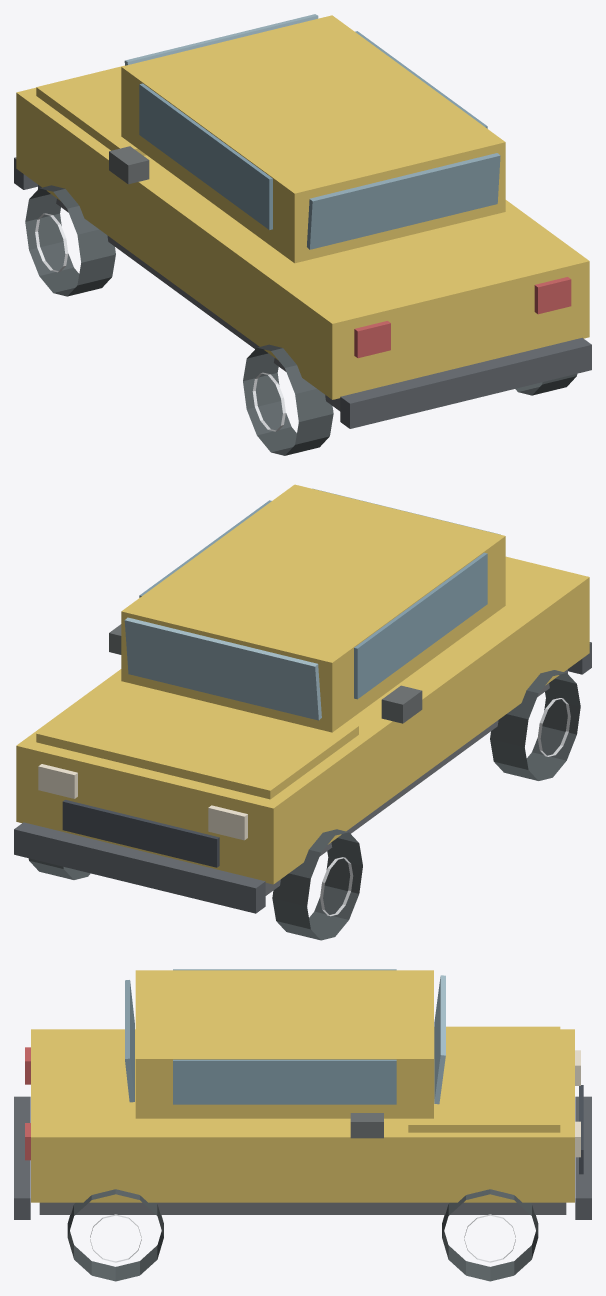
3 renders of one model, top to bottom at view 1: azimuth 30°, elevation 25°; view 2: azimuth 150°, elevation 25°; view 3: azimuth 270°, elevation 25°, orthographic. The views are drawn at different scales.
Visible parts, largest first — view 1: painted_body, cabin, tire (×3), rear_glass, rear_bumper, side_window, hood, taillight (×2), chassis, mirror, windshield; view 2: painted_body, cabin, hood, tire (×3), windshield, front_bumper, side_window, grille, headlight (×2), chassis, mirror; view 3: painted_body, cabin, hood, side_window (×2), chassis, tire (×2), rear_bumper, front_bumper, windshield, rear_glass, mirror.
Boxes of the visible parts, x1,y1,x2,y2 form: painted_body: (16, 87, 589, 399); cabin: (121, 15, 505, 263); tire (×3): (25, 185, 577, 455); rear_glass: (307, 153, 500, 249); rear_bumper: (340, 337, 591, 428); side_window: (139, 83, 272, 229); hood: (36, 65, 146, 155); taillight (×2): (354, 277, 571, 358); chassis: (38, 185, 340, 411); mirror: (109, 146, 149, 184); windshield: (124, 14, 318, 65); painted_body: (16, 556, 589, 884); cabin: (121, 484, 505, 732); hood: (36, 671, 358, 799); tire (×3): (28, 670, 580, 940); windshield: (124, 617, 321, 720); front_bumper: (14, 822, 265, 913); side_window: (354, 552, 487, 699); grille: (62, 799, 219, 867); headlight (×2): (38, 764, 247, 840); chassis: (265, 669, 567, 895); mirror: (381, 685, 422, 723); painted_body: (31, 1029, 574, 1202); cabin: (135, 970, 433, 1118); hood: (408, 1026, 560, 1132); side_window (×2): (173, 969, 396, 1104); chassis: (39, 1202, 566, 1214); tire (×2): (67, 1189, 538, 1281); rear_bumper: (14, 1096, 30, 1219); front_bumper: (575, 1096, 591, 1219); windshield: (434, 975, 445, 1104); rear_glass: (125, 980, 134, 1102); mirror: (350, 1113, 383, 1138).
Size of the model in its own units: 1.94 by 1.53 by 3.84.
